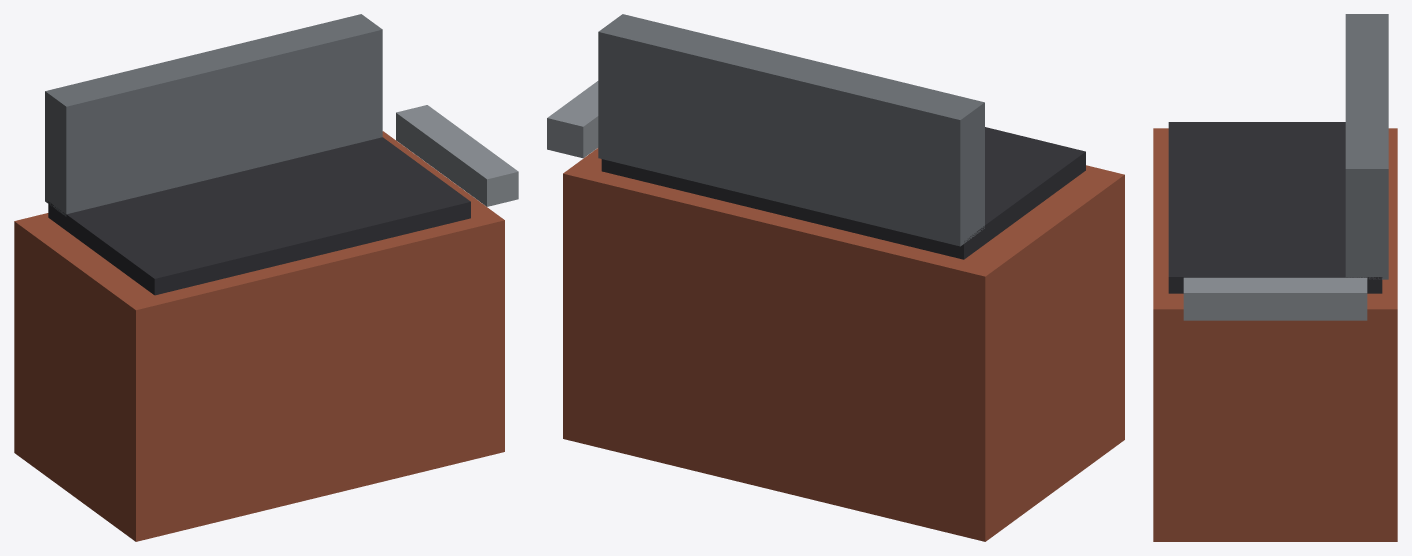
Rendered from bbq.glb.
3 renders of one model, left to right at view 1: azimuth 30°, elevation 25°; view 2: azimuth 150°, elevation 25°; view 3: azimuth 270°, elevation 25°, orthographic. The views are drawn at different scales.
Visible parts, largest first — view 1: bbq2; view 2: bbq2; view 3: bbq2.
Boxes of the visible parts, x1,y1,x2,y2 form: bbq2: (14,14,518,541); bbq2: (547,14,1124,541); bbq2: (1153,14,1397,541).
Size of the model in its own units: 1.51 by 1.3 by 0.8.
